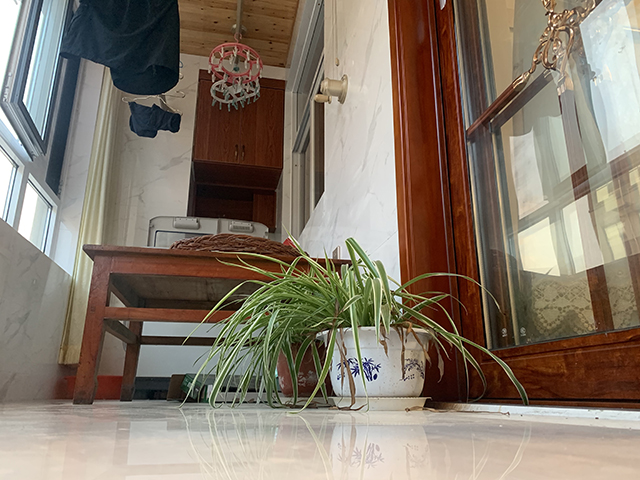curtain: (59, 67, 122, 368)
table: (73, 243, 271, 405)
